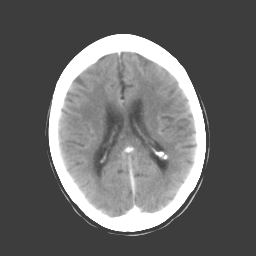ischemic: (145, 101, 160, 129)
